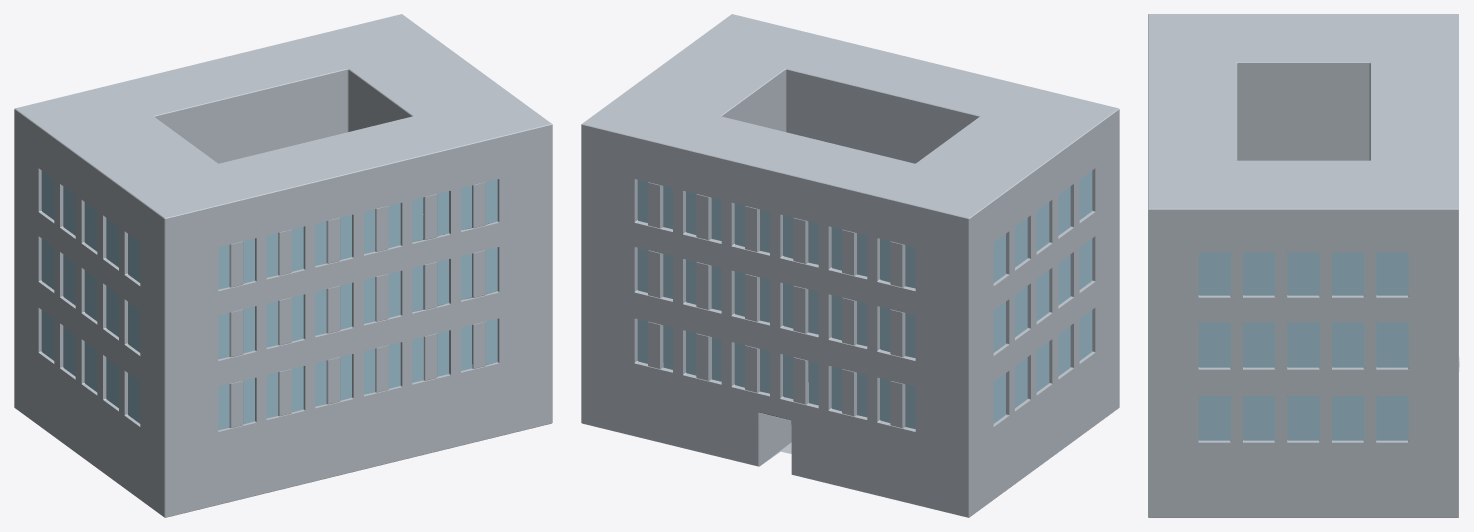
The model's file is Building_013.fbx.
3 renders of one model, left to right at view 1: azimuth 30°, elevation 25°; view 2: azimuth 150°, elevation 25°; view 3: azimuth 270°, elevation 25°, orthographic. The views are drawn at different scales.
Parts seen in each view (by area): view 1: Building_013; view 2: Building_013; view 3: Building_013.
Boxes of the visible parts, x1,y1,x2,y2 form: Building_013: (14,14,552,517); Building_013: (581,14,1119,517); Building_013: (1148,14,1459,517).
Bounding box in the file's own units: 6431 × 4746 × 4334.
